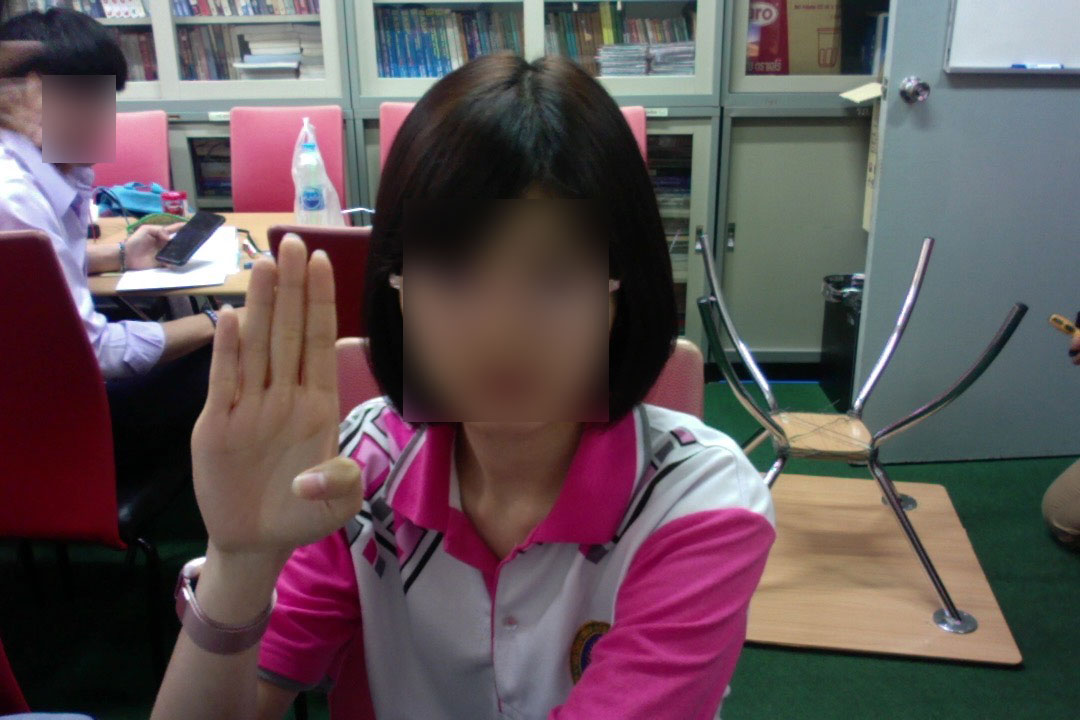bor: (182, 226, 374, 579)
